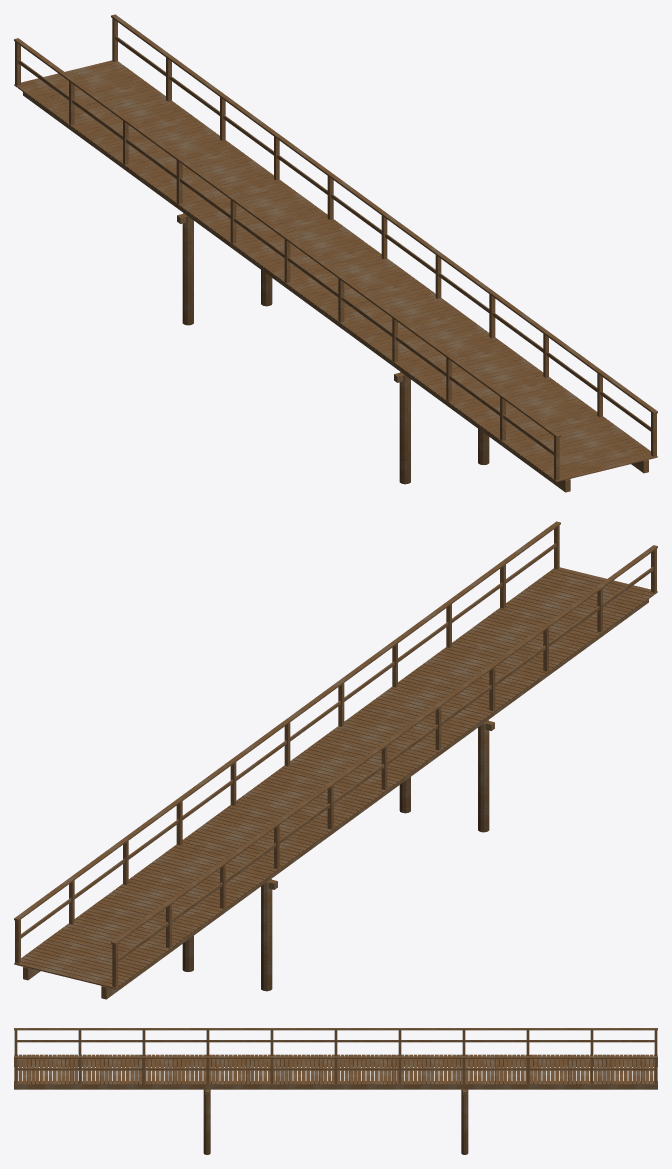
File: bridge.glb
3 views of the same model, one above another, from view 1: azimuth 30°, elevation 25°; view 2: azimuth 150°, elevation 25°; view 3: azimuth 270°, elevation 25° (orthographic). The views are drawn at different scales.
Parts seen in each view (by area): view 1: X_bridge; view 2: X_bridge; view 3: X_bridge.
Boxes of the visible parts, bbox=[...] form: X_bridge: bbox=[14, 14, 657, 492]; X_bridge: bbox=[14, 521, 657, 999]; X_bridge: bbox=[14, 1028, 657, 1154].
Size of the model in its own units: 2.6 by 4.1 by 24.
1 material, 1 textured.
